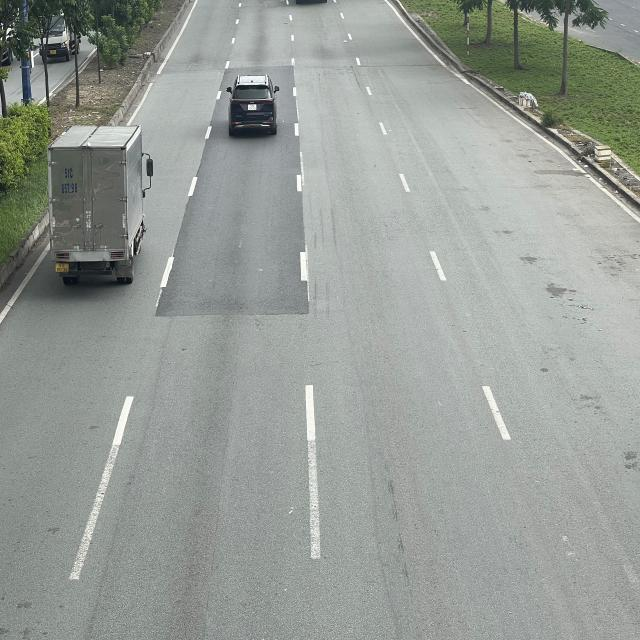car: (224, 73, 282, 133)
truck: (50, 126, 152, 282)
